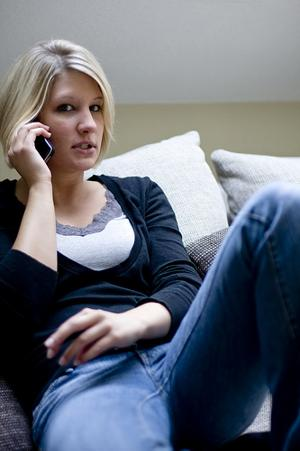person: (2, 40, 300, 450)
